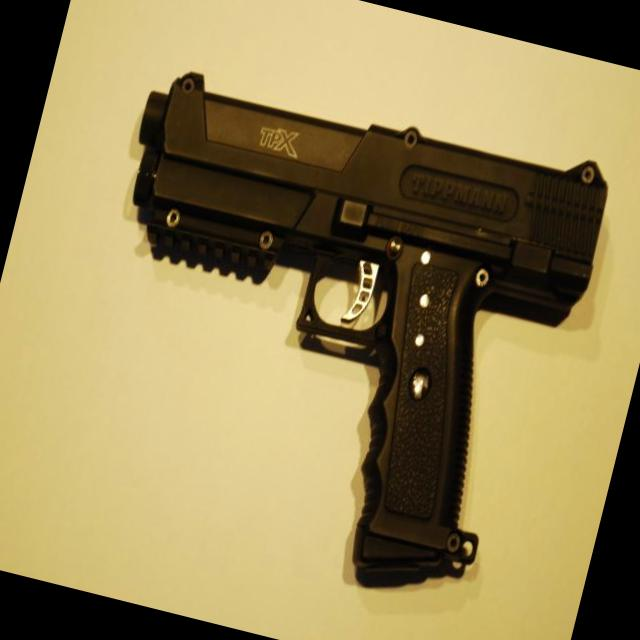Gun: (133, 72, 606, 586)
